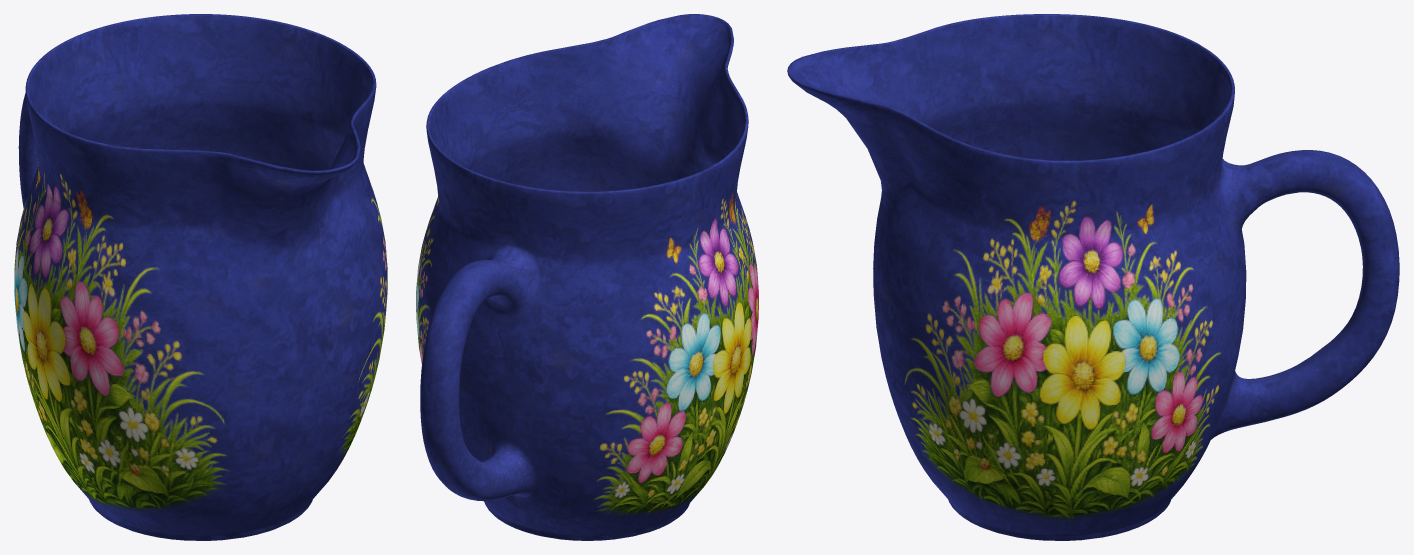
3 views of the same model, side by side, from view 1: azimuth 30°, elevation 25°; view 2: azimuth 150°, elevation 25°; view 3: azimuth 270°, elevation 25° (orthographic). The views are drawn at different scales.
Parts seen in each view (by area): view 1: sm_kitchenware_jug_a01_mesh_00; view 2: sm_kitchenware_jug_a01_mesh_00; view 3: sm_kitchenware_jug_a01_mesh_00.
Boxes of the visible parts, bbox=[...] form: sm_kitchenware_jug_a01_mesh_00: bbox=[14, 14, 387, 540]; sm_kitchenware_jug_a01_mesh_00: bbox=[416, 14, 758, 540]; sm_kitchenware_jug_a01_mesh_00: bbox=[787, 14, 1399, 540].
Bounding box in the file's own units: 0.1002 × 0.1259 × 0.1645.
Materials: 1 (1 with a texture image).
